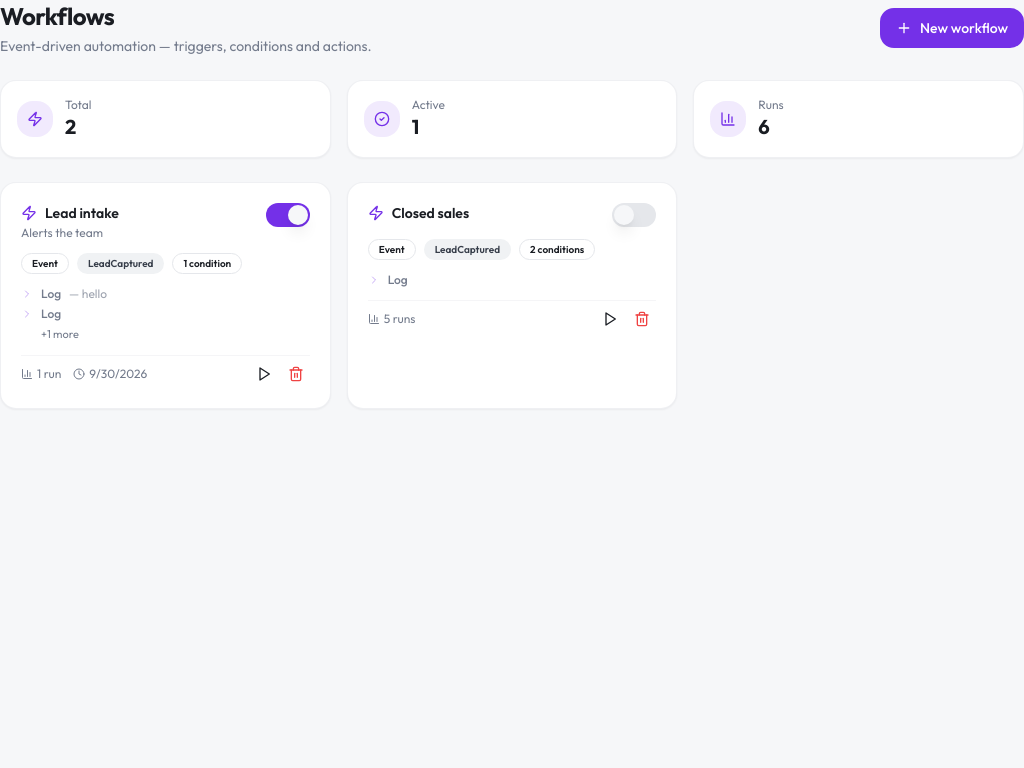
Test case: Workflows in English › falls back to the raw value for a status the catalogue does not know
Click the button named "View runs" next to "9/30/2026" at (264, 374), box [250,360,278,388]
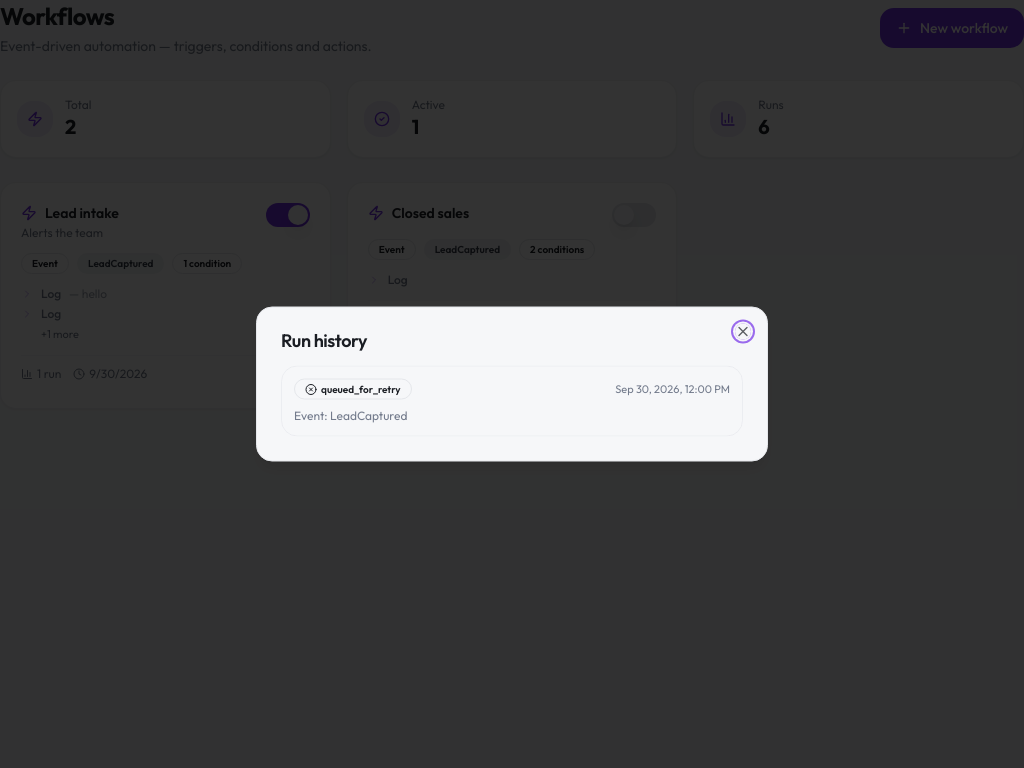
Result: the text "queued_for_retry" is shown at [294,378,412,400]
